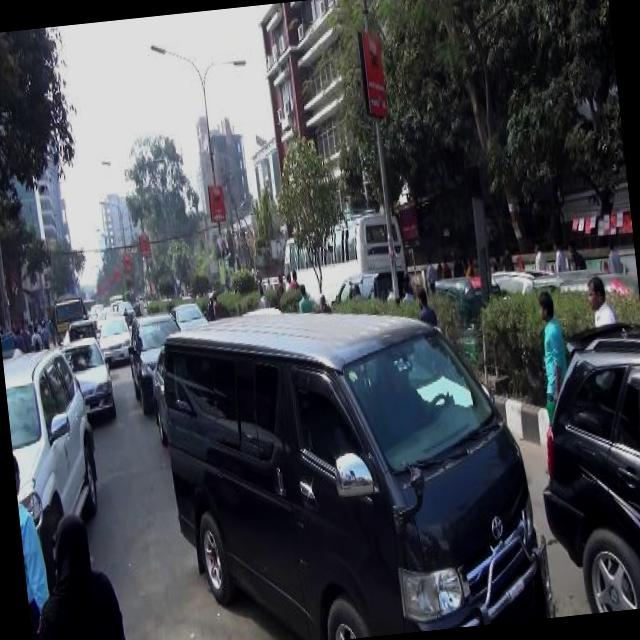bus: (274, 198, 410, 316)
car: (525, 314, 640, 615), (2, 343, 106, 578), (126, 304, 186, 414), (56, 332, 118, 424), (488, 254, 556, 302), (96, 308, 135, 373), (172, 291, 210, 335)
motorcycle: (431, 262, 510, 366), (557, 265, 640, 349), (531, 264, 609, 302), (68, 314, 96, 349)
truck: (153, 284, 545, 640), (328, 259, 412, 324), (51, 294, 89, 338)
